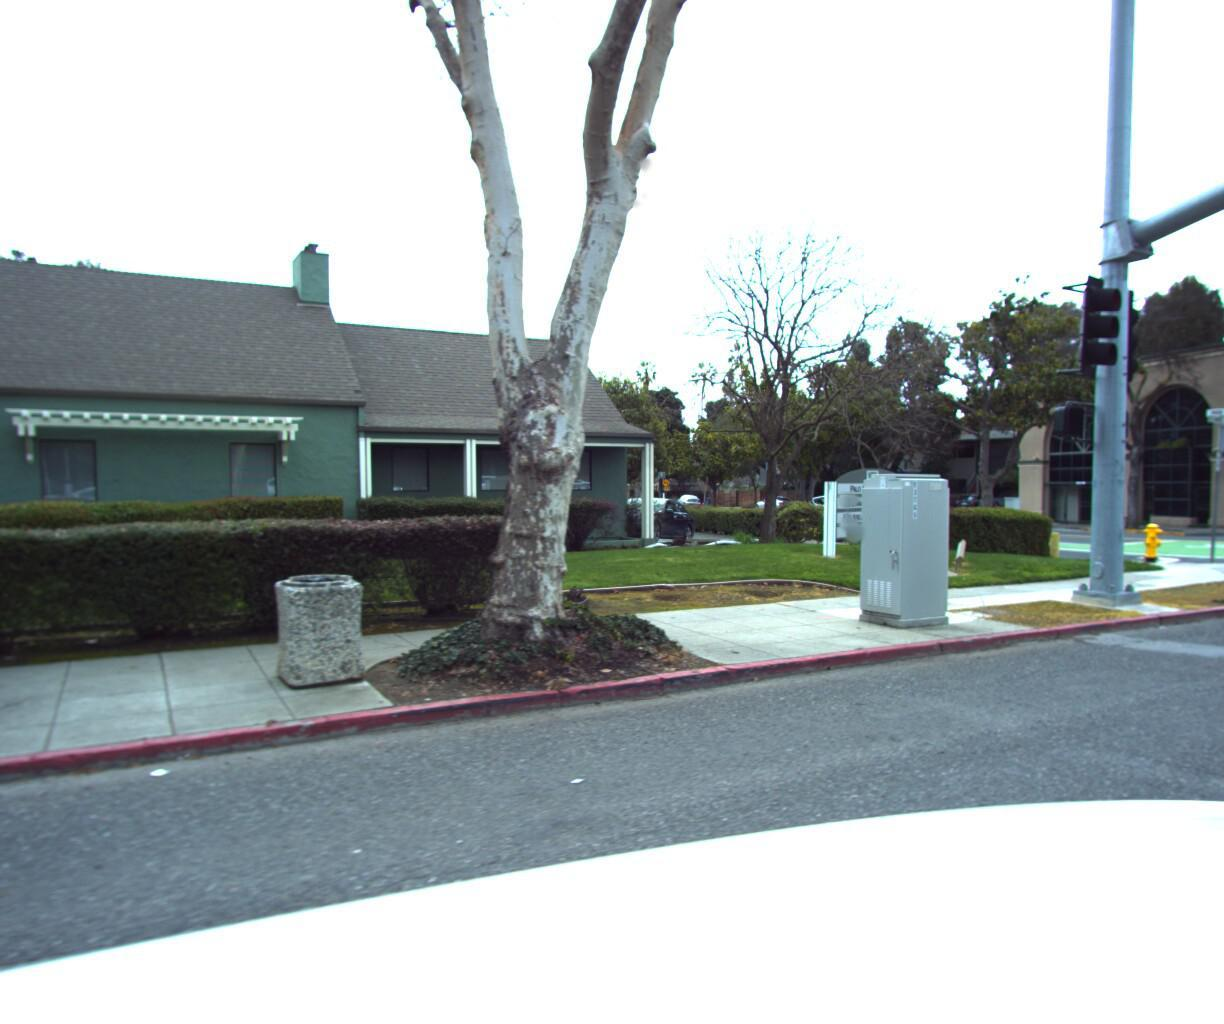car: (595, 489, 710, 553), (951, 485, 1006, 513), (983, 484, 1035, 510), (676, 489, 703, 503)
